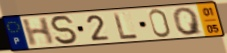0: (147, 8, 173, 39)
2: (85, 14, 112, 42)
H: (21, 16, 56, 48)
L: (112, 11, 140, 41)
Q: (171, 6, 205, 37)
S: (49, 14, 81, 46)
